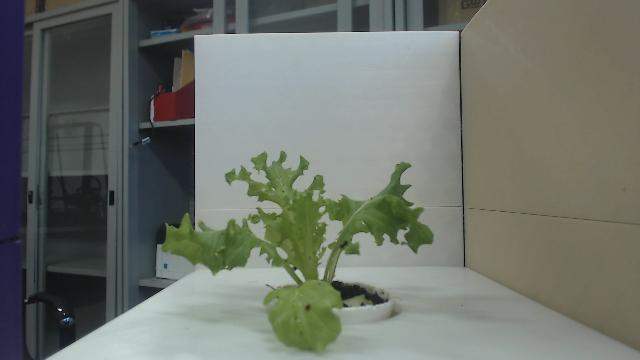Vegetative Stage: (160, 147, 436, 353)
